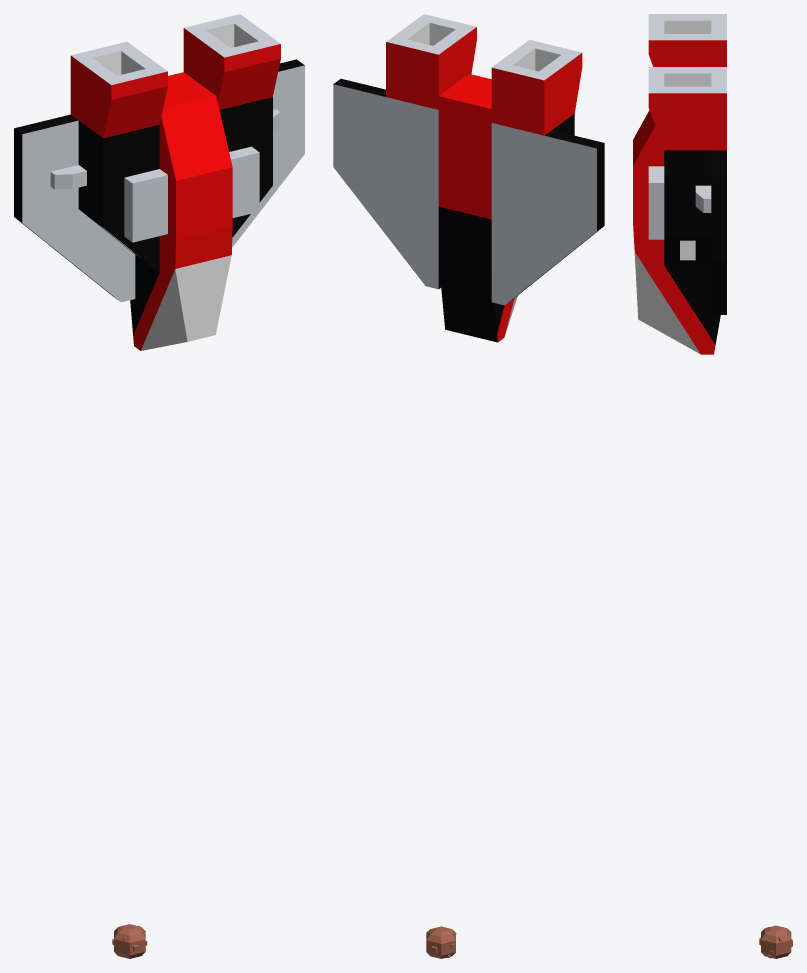
File: meteor_detailed.obj
3 renders of one model, left to right at view 1: azimuth 30°, elevation 25°; view 2: azimuth 150°, elevation 25°; view 3: azimuth 270°, elevation 25°, orthographic. The views are drawn at different scales.
Parts seen in each view (by area): view 1: craft_speederB.003, meteor_detailed; view 2: craft_speederB.003, meteor_detailed; view 3: craft_speederB.003, meteor_detailed.
Part boxes in pixels (x1,y1,x2,y2): craft_speederB.003: (14, 14, 304, 350); meteor_detailed: (112, 924, 147, 958); craft_speederB.003: (333, 14, 604, 342); meteor_detailed: (426, 926, 456, 958); craft_speederB.003: (633, 14, 726, 354); meteor_detailed: (759, 925, 792, 958).
Size of the model in its own units: 7.69 by 24.43 by 3.93.
